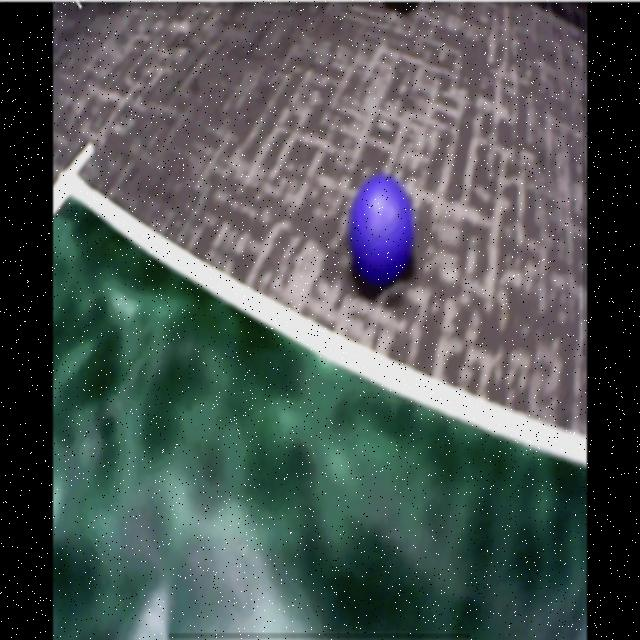ball: (350, 177, 414, 281)
